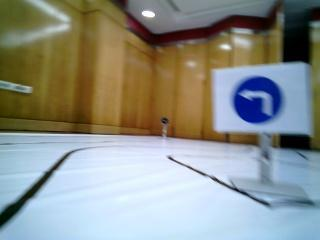left: (215, 70, 309, 132)
